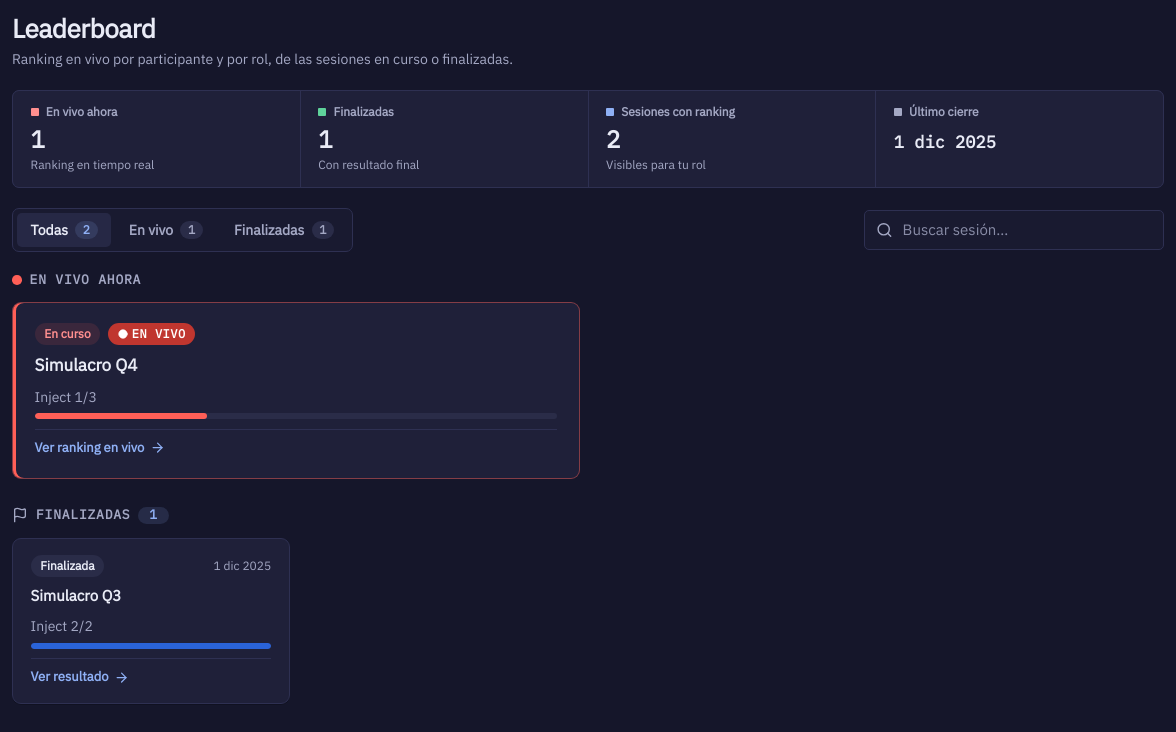
Test: LeaderboardPage › separa las sesiones en vivo, filtra por estado y busca por nombre
Check: the heading "Simulacro Q4" is shown, box top-left (35, 354), bottom-right (137, 376)
Check: the heading "Simulacro Q3" is shown, box top-left (31, 586), bottom-right (121, 605)
Click the button "Finalizadas 1": click(284, 230) top-left (220, 213), bottom-right (348, 247)
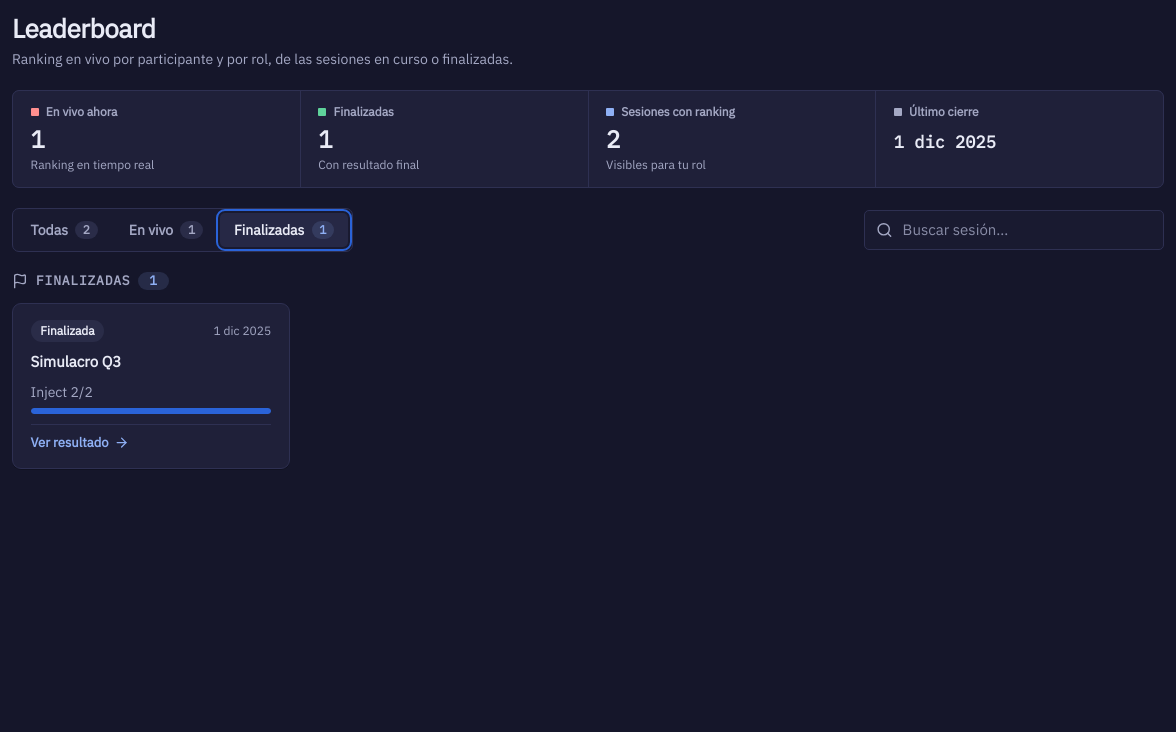
Check: the heading "Simulacro Q3" is shown, box top-left (31, 352), bottom-right (121, 371)
Check: the link "Simulacro Q4" is gone
Click the button "Todas 2": click(64, 230) top-left (17, 213), bottom-right (111, 247)
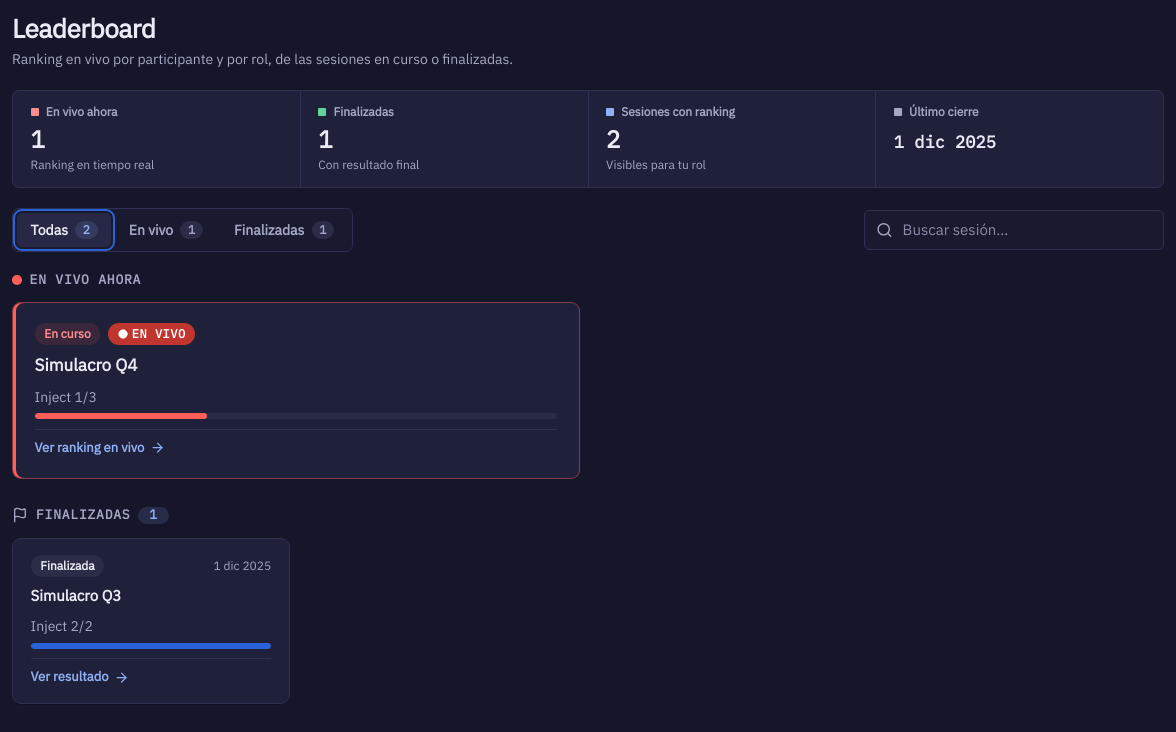
In the search field labelled "Buscar sesión": (1014, 230) top-left (864, 210), bottom-right (1164, 250), type "q4"
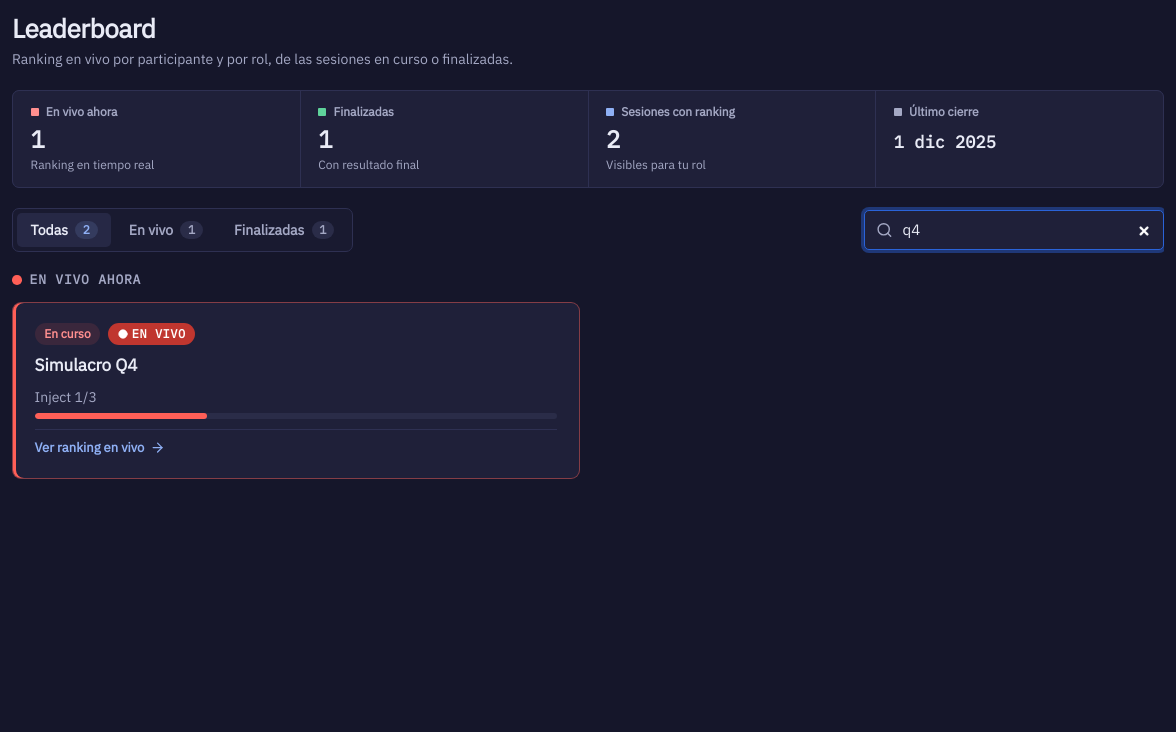
Check: the heading "Simulacro Q4" is shown, box top-left (35, 354), bottom-right (137, 376)
Check: the link "Simulacro Q3" is gone
